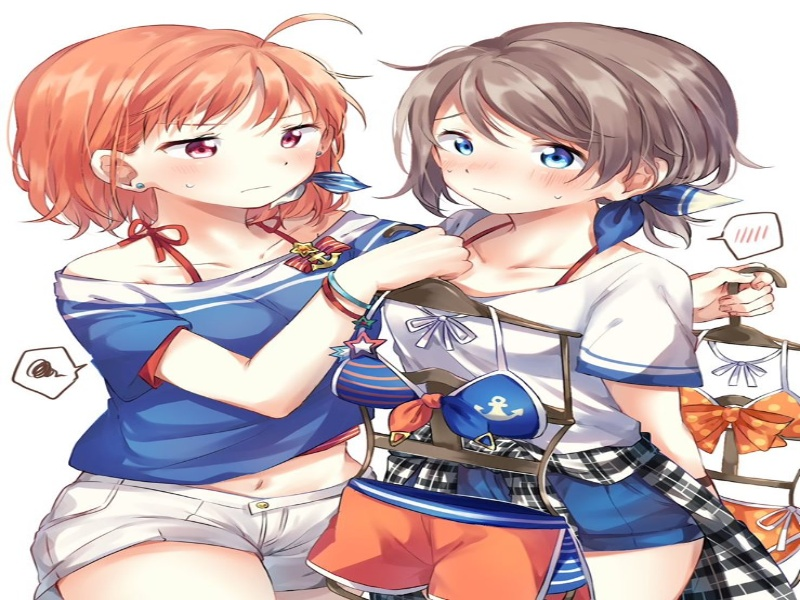person: (381, 20, 741, 263), (56, 27, 362, 235)
swimsuit: (310, 463, 565, 600), (321, 326, 559, 453), (669, 375, 800, 463)
